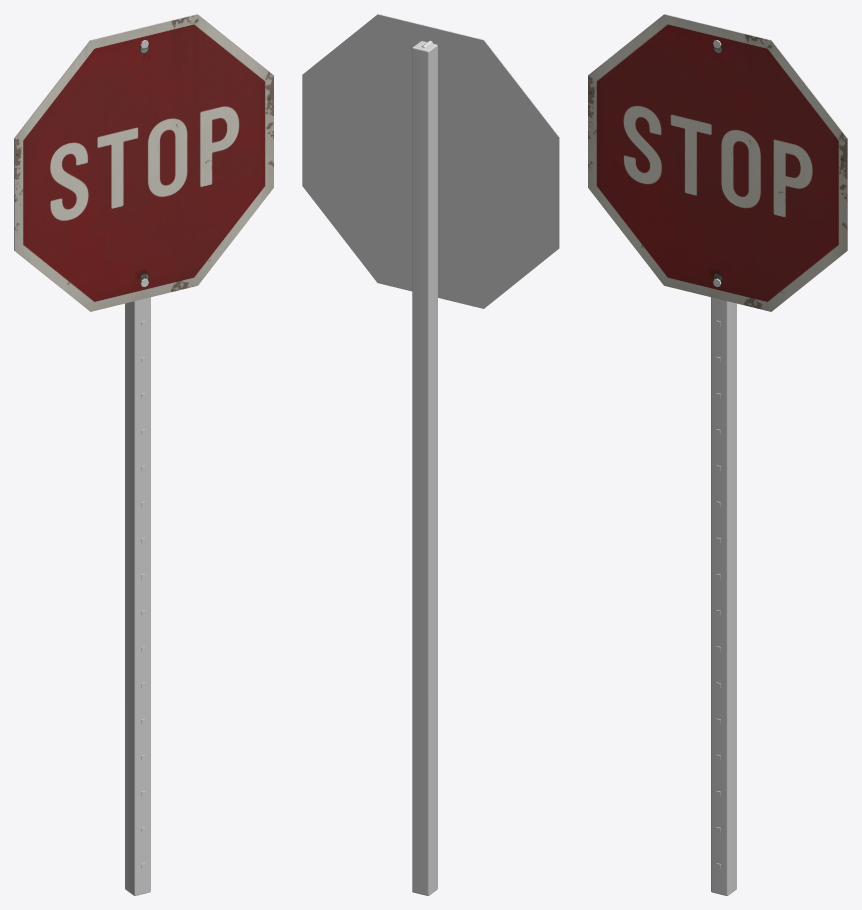
The model's file is SM_Sign_Stop.fbx.
3 renders of one model, left to right at view 1: azimuth 30°, elevation 25°; view 2: azimuth 150°, elevation 25°; view 3: azimuth 330°, elevation 25°, orthographic.
Parts seen in each view (by area): view 1: SM_Sign_Stop; view 2: SM_Sign_Stop; view 3: SM_Sign_Stop.
Boxes of the visible parts, left/top/right/bottom form: SM_Sign_Stop: left=14, top=14, right=273, bottom=895; SM_Sign_Stop: left=302, top=14, right=559, bottom=895; SM_Sign_Stop: left=588, top=14, right=847, bottom=895.
Size of the model in its own units: 75 by 240 by 6.1.
